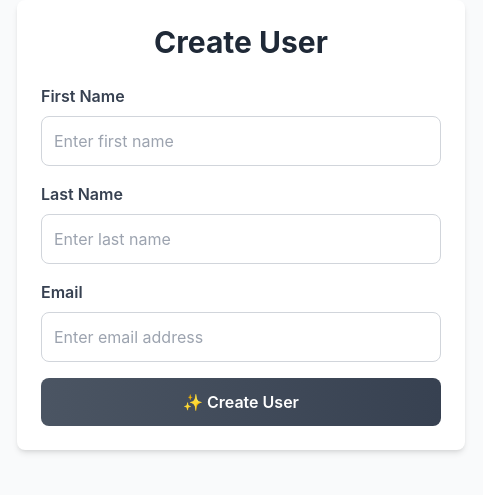
Test: CreateUser Component › Last Name Validation › validates last name field
Step 1. Type "Doe@" into the field with test id "last-name-input" → (241, 239), box [41, 214, 441, 264]
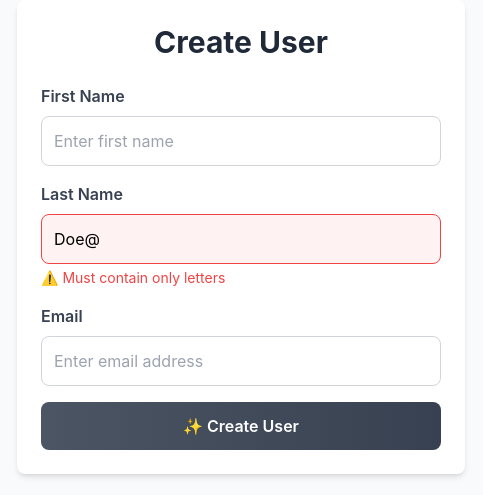
Expected: the text "⚠️ Must contain only letters" is shown, [41, 269, 225, 286]
